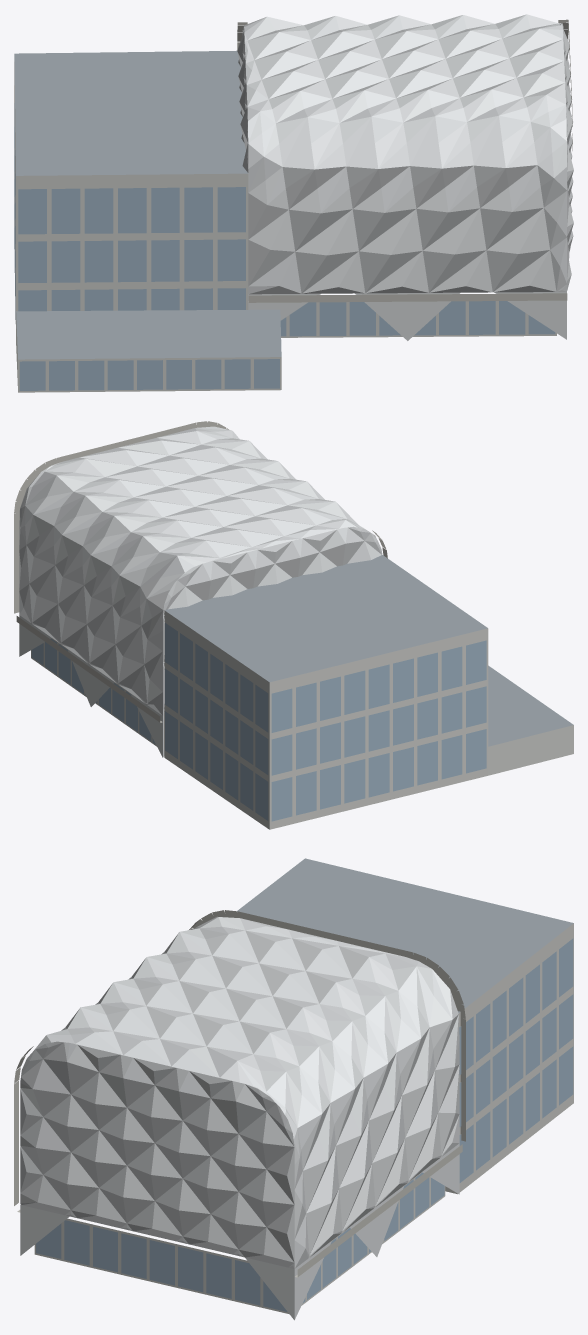
3 views of the same model, one above another, from view 1: azimuth 30°, elevation 25°; view 2: azimuth 150°, elevation 25°; view 3: azimuth 270°, elevation 25° (orthographic). The views are drawn at different scales.
Parts seen in each view (by area): view 1: the-shed; view 2: the-shed; view 3: the-shed.
Boxes of the visible parts, x1,y1,x2,y2 form: the-shed: [14, 14, 573, 392]; the-shed: [14, 421, 573, 829]; the-shed: [14, 858, 573, 1320].
Bounding box in the file's own units: 103 × 36.4 × 78.92.
